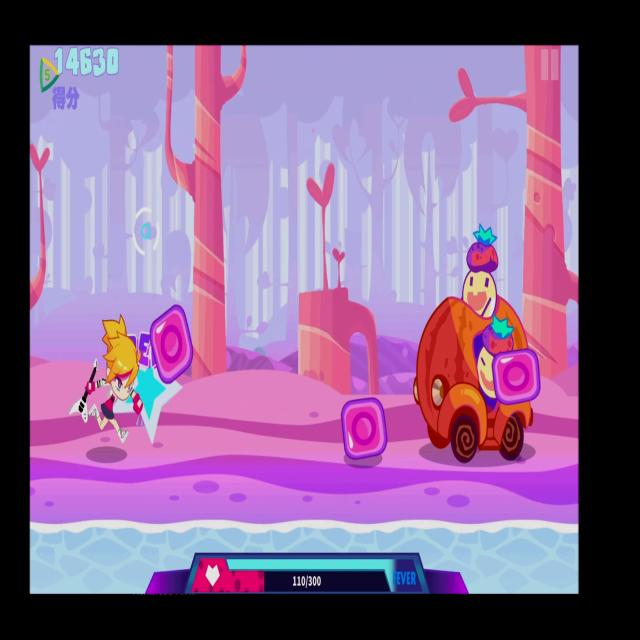kuai: (148, 301, 198, 386), (340, 390, 387, 473), (494, 343, 544, 407)
